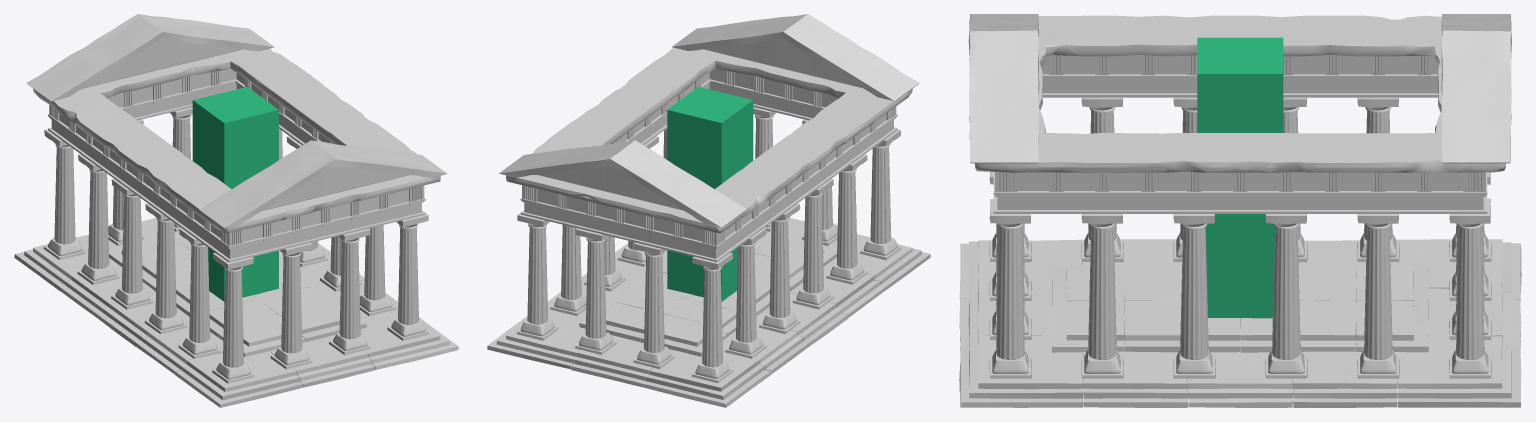
The picture shows the model from 3 angles, left to right: view 1: azimuth 30°, elevation 25°; view 2: azimuth 150°, elevation 25°; view 3: azimuth 270°, elevation 25°; orthographic projection. The views are drawn at different scales.
Visible parts, largest first — view 1: Cube_140_Cylinder_130, Cube_074_dmg_001_Cube_074_dmg_002, Cube_139_Cylinder_129, Cube_138_Cylinder_128, Cube_141_Cylinder_131, Box001, Cube_146_Cylinder_136, Cube_143_Cylinder_133, Cube_142_Cylinder_132; view 2: Cube_140_Cylinder_130, Cube_074_dmg_001_Cube_074_dmg_002, Cube_139_Cylinder_129, Cube_138_Cylinder_128, Cube_141_Cylinder_131, Box001, Cube_146_Cylinder_136, Cube_143_Cylinder_133, Cube_142_Cylinder_132; view 3: Cube_138_Cylinder_128, Cube_140_Cylinder_130, Cube_074_dmg_001_Cube_074_dmg_002, Cube_141_Cylinder_131, Cube_139_Cylinder_129, Cube_146_Cylinder_136, Box001, Cube_143_Cylinder_133, Cube_142_Cylinder_132.
Part boxes in pixels (<box>): Cube_140_Cylinder_130: <box>43,107,429,383</box>; Cube_074_dmg_001_Cube_074_dmg_002: <box>33,48,440,233</box>; Cube_139_Cylinder_129: <box>26,14,446,228</box>; Cube_138_Cylinder_128: <box>14,217,458,407</box>; Cube_141_Cylinder_131: <box>48,68,425,262</box>; Box001: <box>192,87,278,301</box>; Cube_146_Cylinder_136: <box>109,234,366,356</box>; Cube_143_Cylinder_133: <box>49,105,424,249</box>; Cube_142_Cylinder_132: <box>124,70,333,143</box>; Cube_140_Cylinder_130: <box>517,107,901,382</box>; Cube_074_dmg_001_Cube_074_dmg_002: <box>506,47,912,233</box>; Cube_139_Cylinder_129: <box>499,14,919,227</box>; Cube_138_Cylinder_128: <box>487,218,930,407</box>; Cube_141_Cylinder_131: <box>520,68,897,262</box>; Box001: <box>667,87,753,301</box>; Cube_146_Cylinder_136: <box>579,234,836,356</box>; Cube_143_Cylinder_133: <box>522,106,896,249</box>; Cube_142_Cylinder_132: <box>612,70,821,143</box>; Cube_138_Cylinder_128: <box>959,239,1521,407</box>; Cube_140_Cylinder_130: <box>989,97,1491,378</box>; Cube_074_dmg_001_Cube_074_dmg_002: <box>975,15,1505,172</box>; Cube_141_Cylinder_131: <box>993,55,1487,213</box>; Cube_139_Cylinder_129: <box>968,14,1511,163</box>; Cube_146_Cylinder_136: <box>1052,265,1428,352</box>; Box001: <box>1197,37,1283,321</box>; Cube_143_Cylinder_133: <box>995,171,1485,196</box>; Cube_142_Cylinder_132: <box>1049,55,1431,79</box>.
Bounding box in the file's own units: 2.23 × 1.94 × 3.32.
